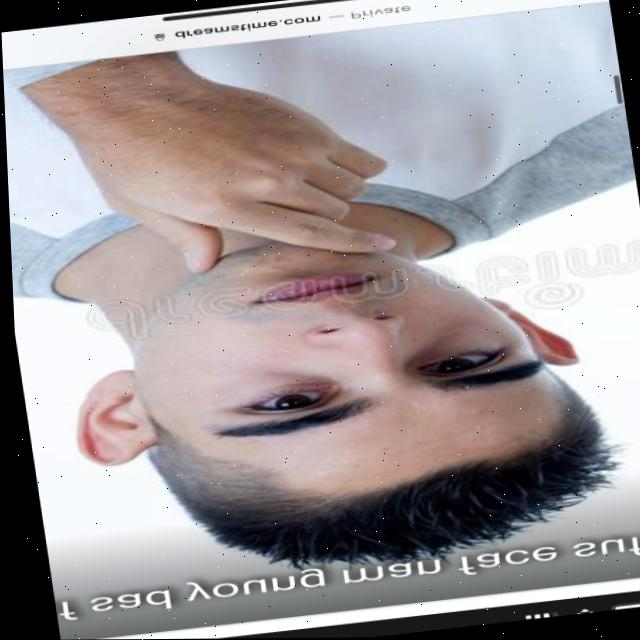Neutral: (133, 205, 569, 557)
